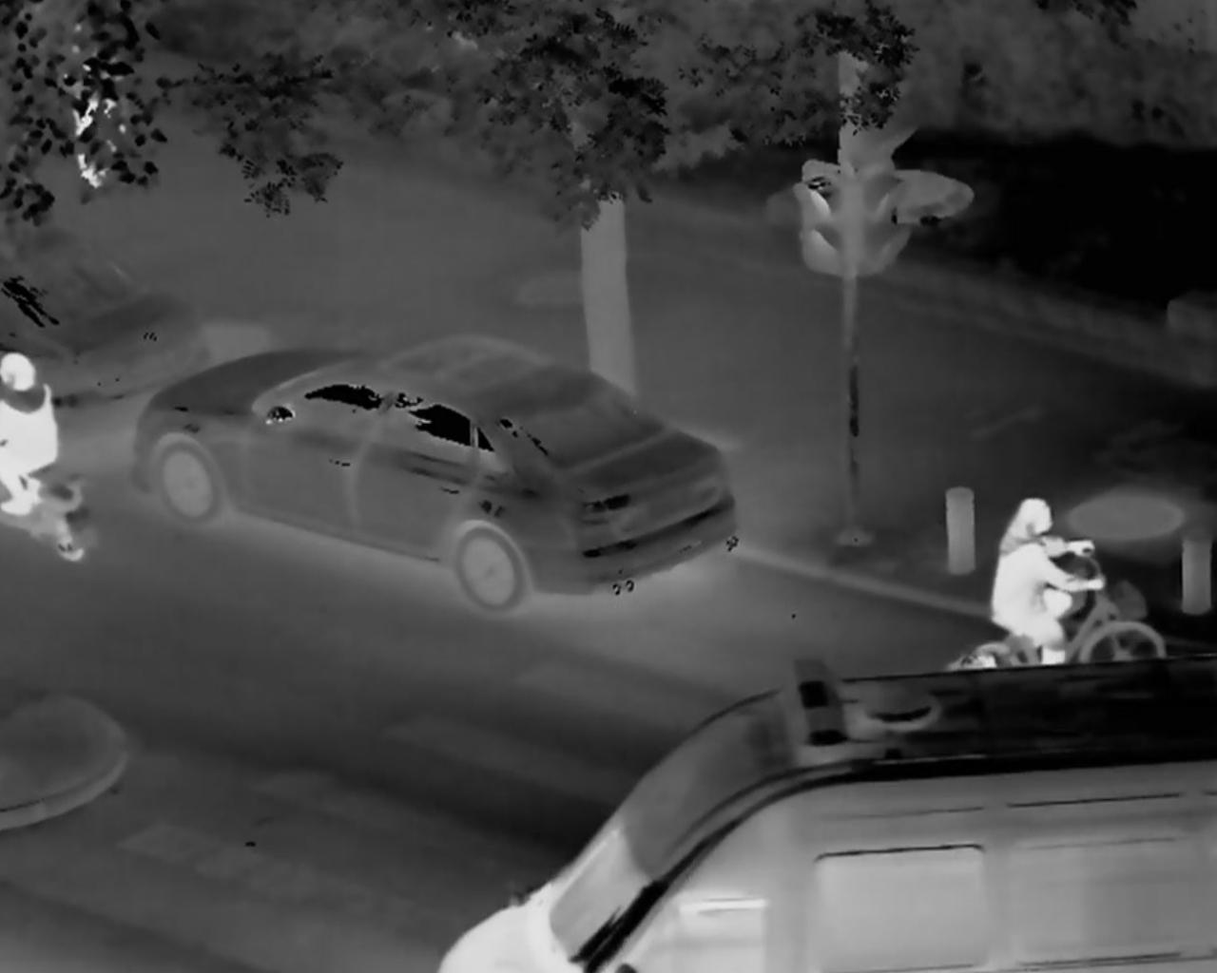person: (976, 491, 1108, 670)
